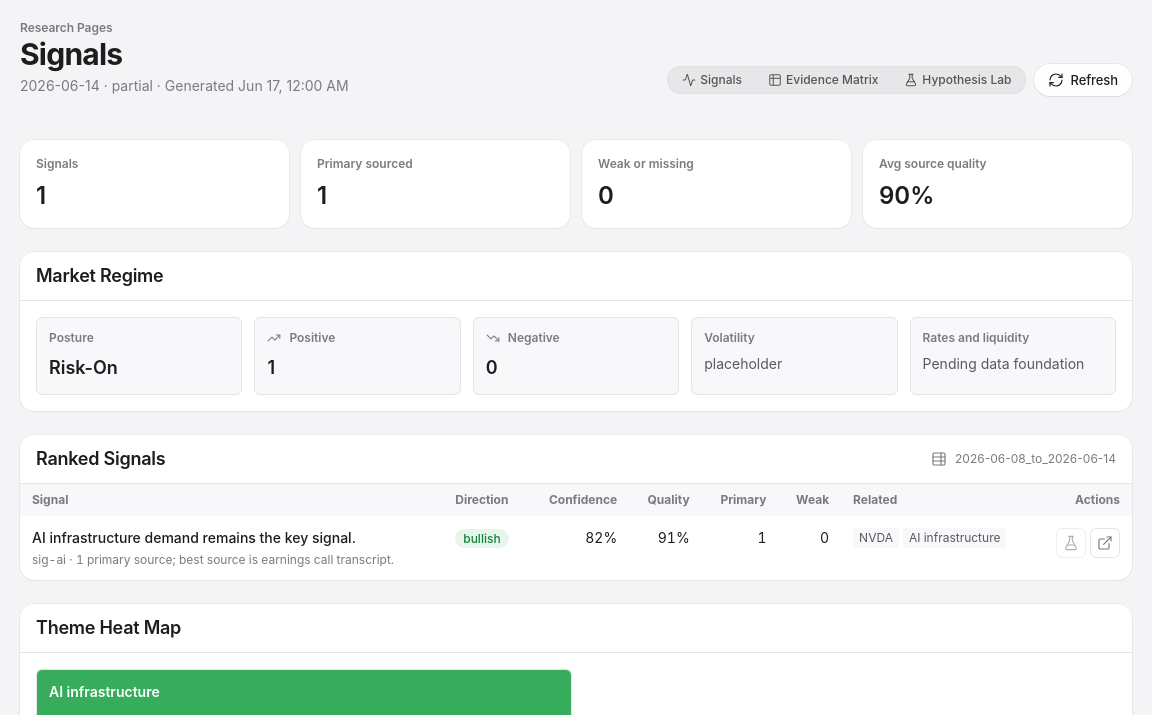
Test: research page views › renders Market Pulse ranked signals and heat map with honest placeholder action
The width and height of the screenshot is (1152, 715).
expect the button named "Signal-specific hypothesis drafting is planned; use Hypothes" is disabled: met, box [1056,528,1086,558]
Click the button "Refresh". click: (1083, 80)
box: [1034,64,1132,96]
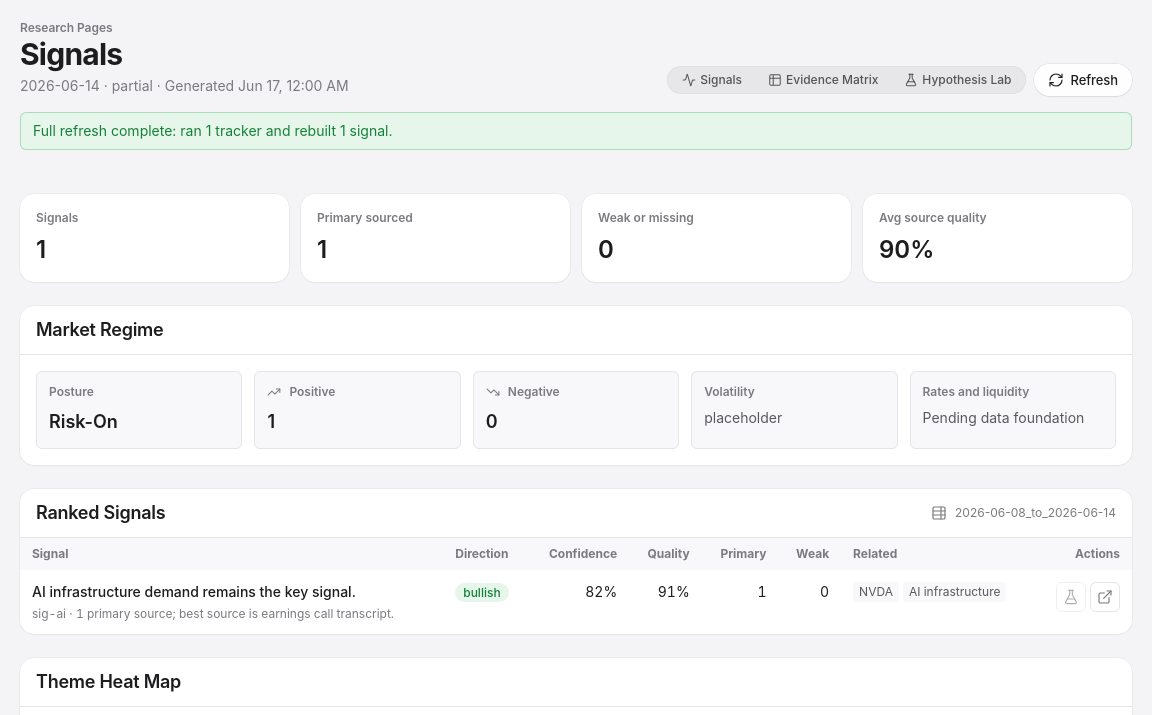
expect the text "Full refresh complete: ran 1 tracker and rebuilt 1 signal." is shown: met, box [20,112,1132,150]
